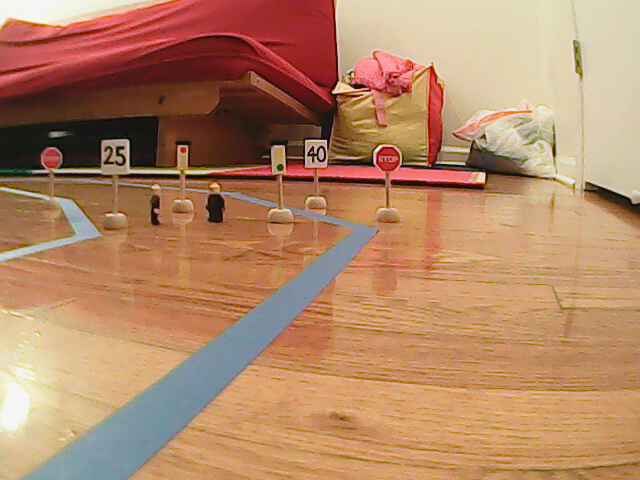Green Traffic Light: (268, 138, 288, 176)
Person: (205, 179, 229, 224), (146, 183, 164, 226)
Red Traffic Light: (174, 139, 189, 175)
Speed Limit 25: (100, 139, 130, 176)
Speed Limit 40: (303, 137, 328, 169)
Stop Sign: (372, 143, 404, 175), (38, 146, 67, 173)
